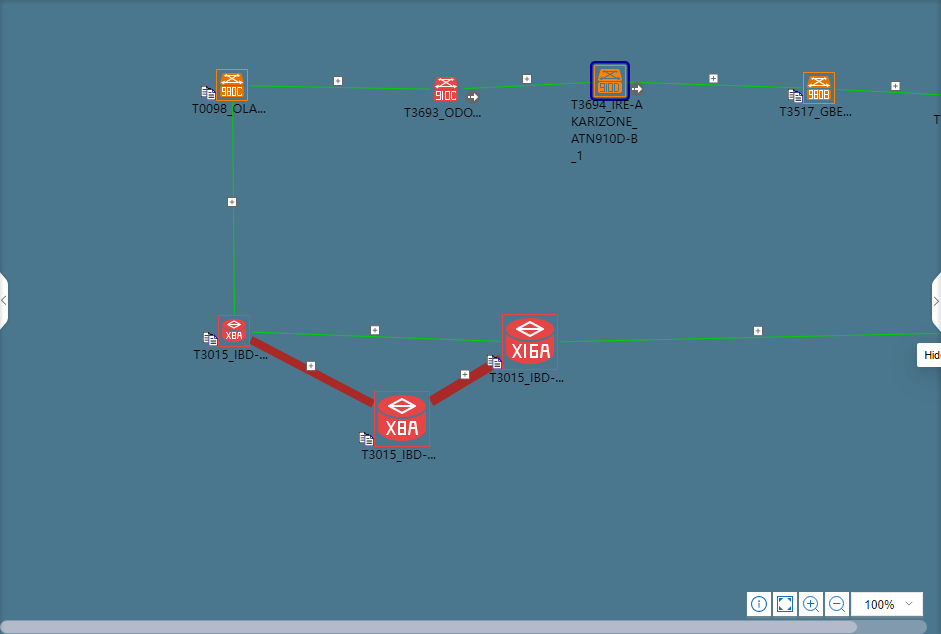ATN_Orange: (803, 73, 837, 101), (597, 67, 625, 95), (221, 73, 248, 101)
ATN_Red: (432, 79, 460, 99)
Link_Green: (313, 332, 497, 348), (573, 332, 890, 339), (462, 79, 587, 95), (632, 79, 807, 89), (353, 85, 429, 95), (917, 91, 940, 101)
Link_Red: (250, 338, 378, 413), (432, 355, 507, 404)
Router_Red: (503, 314, 560, 371), (373, 396, 431, 448), (221, 314, 247, 342)
